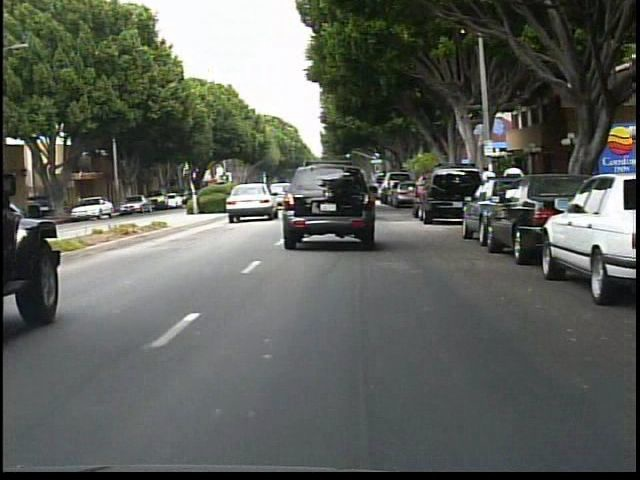person: (501, 158, 525, 215), (477, 164, 498, 210), (71, 190, 89, 221)
